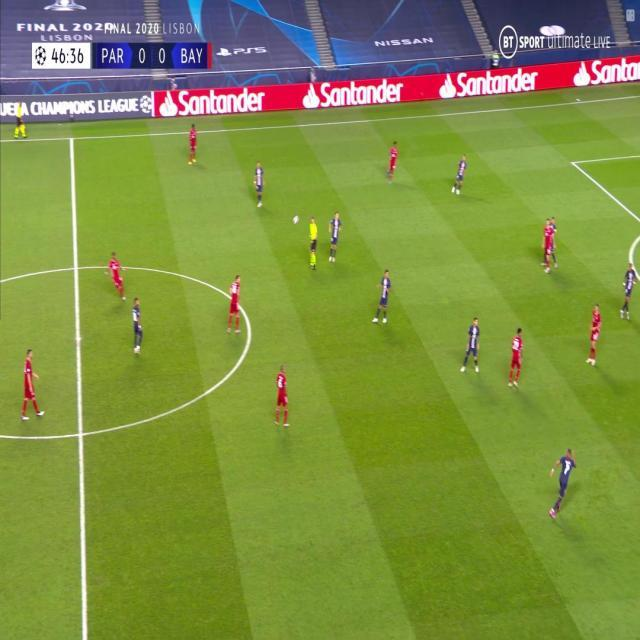ball: (293, 214, 299, 224)
player: (548, 447, 577, 521), (20, 347, 45, 421), (459, 316, 481, 374), (371, 269, 393, 326), (585, 303, 604, 367), (507, 327, 525, 391), (105, 252, 127, 302), (619, 264, 637, 321), (274, 365, 290, 429), (227, 274, 243, 336), (542, 217, 557, 273), (328, 211, 343, 264), (131, 296, 144, 356), (450, 153, 467, 195), (386, 140, 400, 183), (254, 159, 266, 209), (187, 123, 199, 164)
referee: (306, 217, 319, 272), (14, 103, 27, 140)
